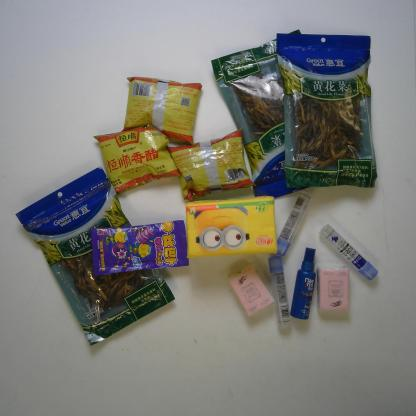Candy: (90, 220, 190, 277)
Dried Food: (15, 166, 177, 348), (210, 30, 338, 204), (275, 32, 379, 191)
Personal Hygiene: (290, 246, 316, 322)
Seasoner: (167, 128, 257, 203), (93, 124, 182, 195), (120, 75, 202, 147)
Stationery: (320, 223, 379, 282), (274, 190, 313, 259), (267, 254, 291, 326)
Tissue: (184, 195, 278, 257), (227, 265, 274, 315), (316, 266, 350, 312)
